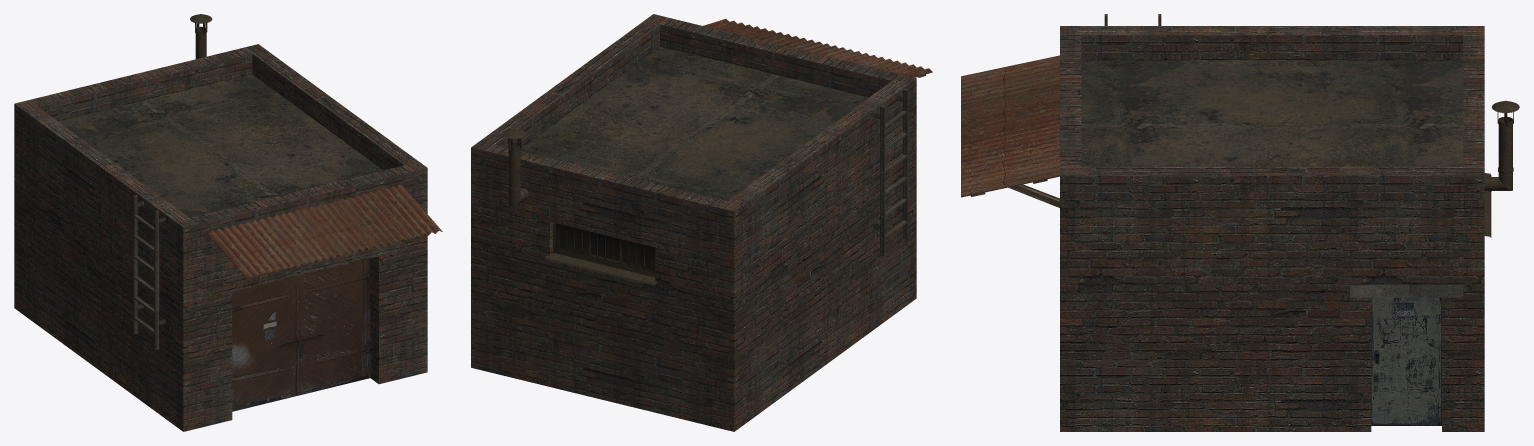
Rendered from garage_hm_2.dae.
3 views of the same model, side by side, from view 1: azimuth 30°, elevation 25°; view 2: azimuth 150°, elevation 25°; view 3: azimuth 270°, elevation 25° (orthographic). The views are drawn at different scales.
Visible parts, largest first — view 1: garage_hm_2; view 2: garage_hm_2; view 3: garage_hm_2.
Boxes of the visible parts, <box> form: garage_hm_2: <box>14,14,442,431</box>; garage_hm_2: <box>471,14,932,431</box>; garage_hm_2: <box>961,14,1519,431</box>.
Size of the model in its own units: 5.22 by 7.9 by 4.7.
Materials: 10 (10 with a texture image).
